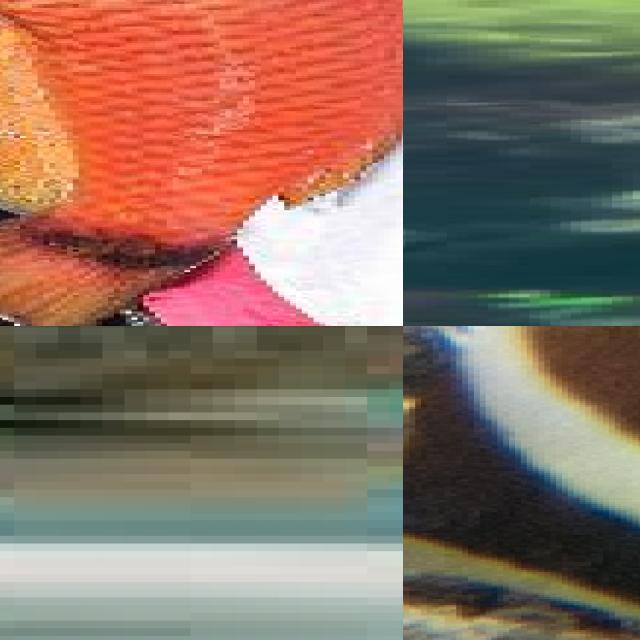fish: (0, 0, 403, 326), (427, 326, 640, 640), (0, 326, 403, 466)
